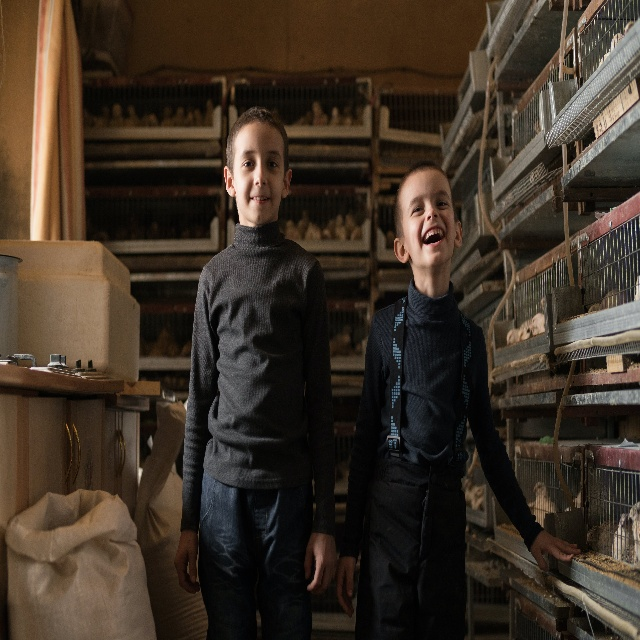Sin_guantes: (530, 527, 580, 574), (304, 533, 338, 596), (174, 531, 202, 596), (338, 555, 358, 618)
